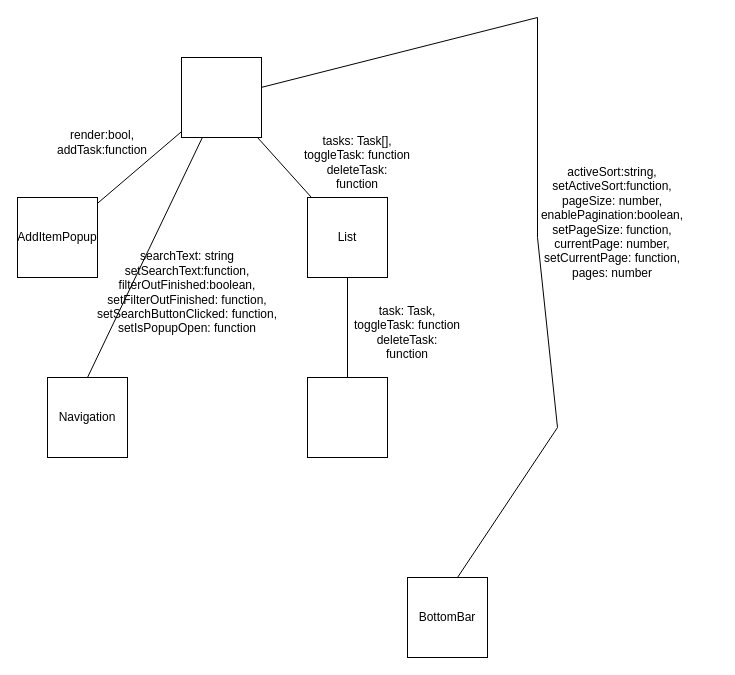
The diagram is 735 pixels wide and 675 high, and some of its shapes have lost their labels. Here are the shapes that lost their labels. From the top down, the centre of each, then its label:
At pixel 221 97: "App".
At pixel 347 417: "SingleTask".
